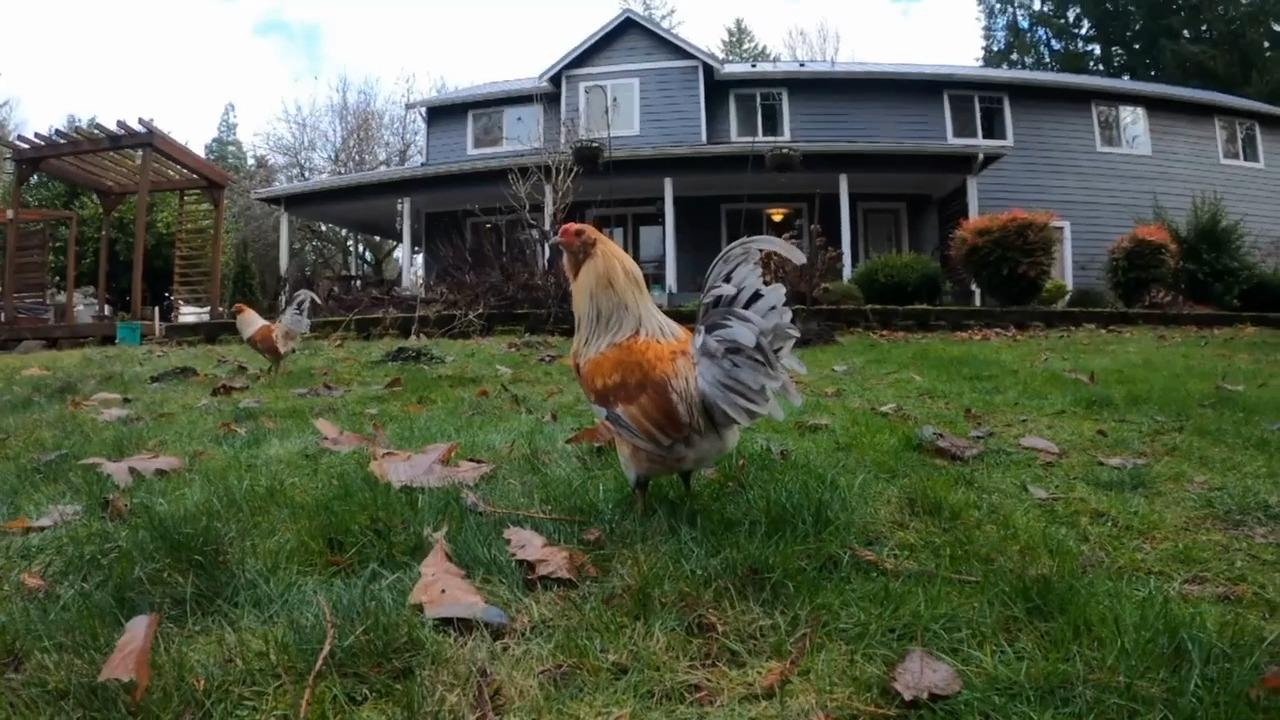Normal: (538, 208, 814, 480)
